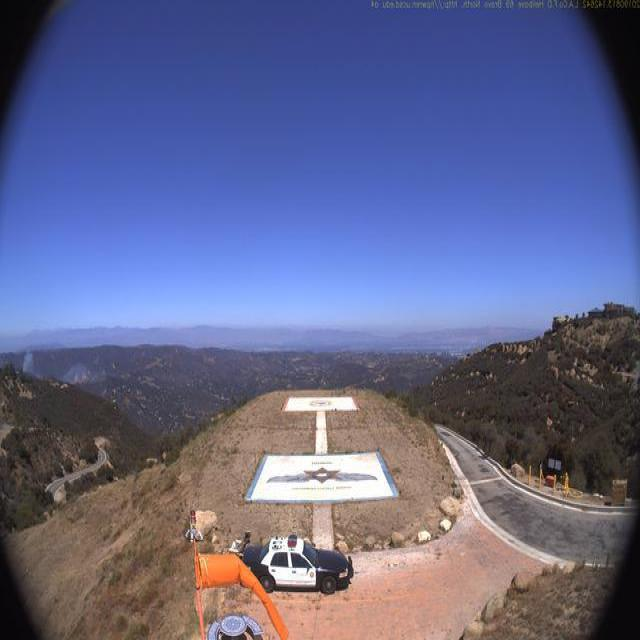smoke: (18, 341, 95, 388)
